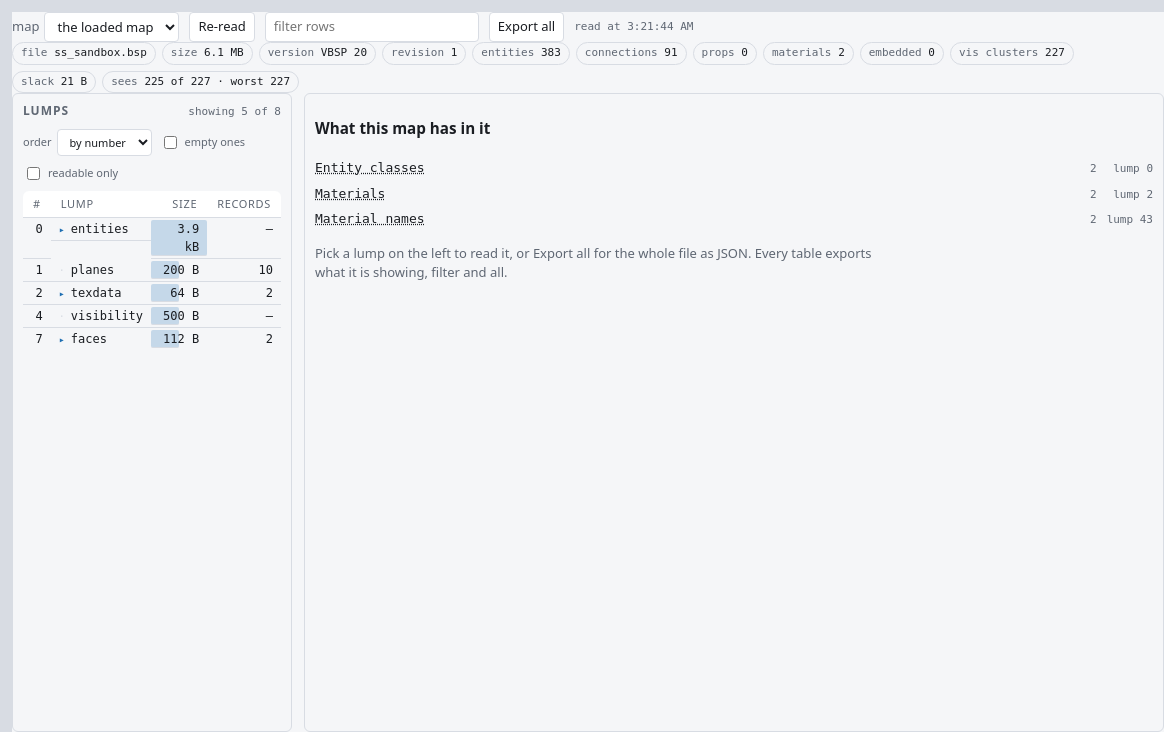
Test: the lump table › hides the empty lumps until asked for them
expect the text "ss_sandbox.bsp" is shown: met, box [54,46,147,59]
expect the row "vertexes" is not shown: met
Click the checkbox labelled "empty ones". click: (170, 142)
box: [164,136,176,148]
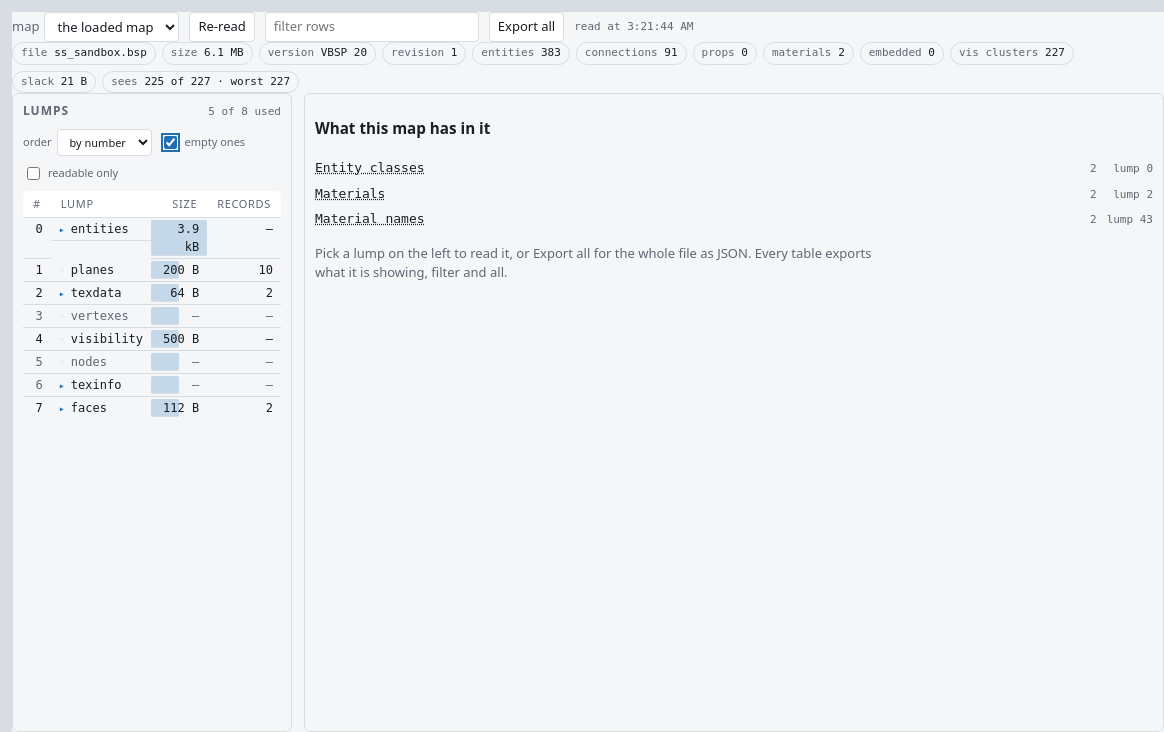
expect the row "3 vertexes — —" is shown: met, box [23,304,281,328]
